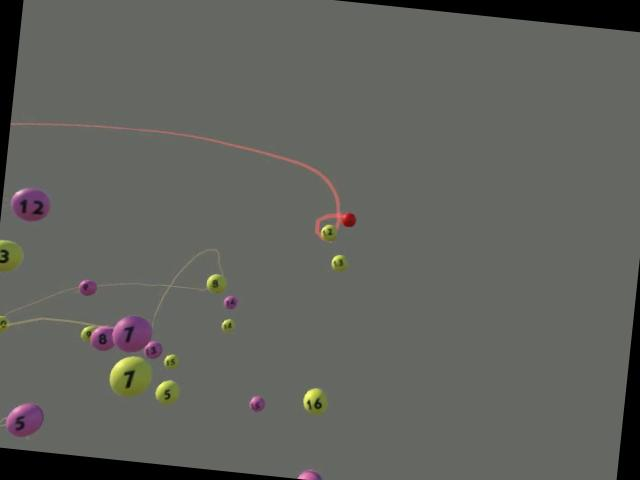ball_05_pink: (4, 400, 44, 439)
ball_05_yellow: (154, 378, 180, 405)
ball_07_pink: (110, 313, 153, 354)
ball_07_yellow: (107, 354, 154, 400)
ball_08_pink: (88, 324, 116, 352)
ball_08_yellow: (205, 272, 227, 294)
ball_09_pink: (78, 278, 98, 296)
ball_10_yellow: (0, 314, 9, 334)
ball_11_pink: (9, 186, 52, 222)
ball_12_yellow: (319, 223, 338, 243)
ball_13_pink: (142, 339, 162, 359)
ball_13_yellow: (329, 253, 348, 272)
ball_14_pink: (222, 294, 238, 310)
ball_14_yellow: (220, 318, 236, 333)
ball_15_pink: (248, 395, 266, 413)
ball_15_yellow: (163, 353, 178, 369)
ball_16_yellow: (302, 388, 328, 416)
ball_unknown: (0, 238, 24, 273), (79, 324, 97, 344), (297, 467, 323, 480)
user_cursor: (340, 212, 356, 228)
